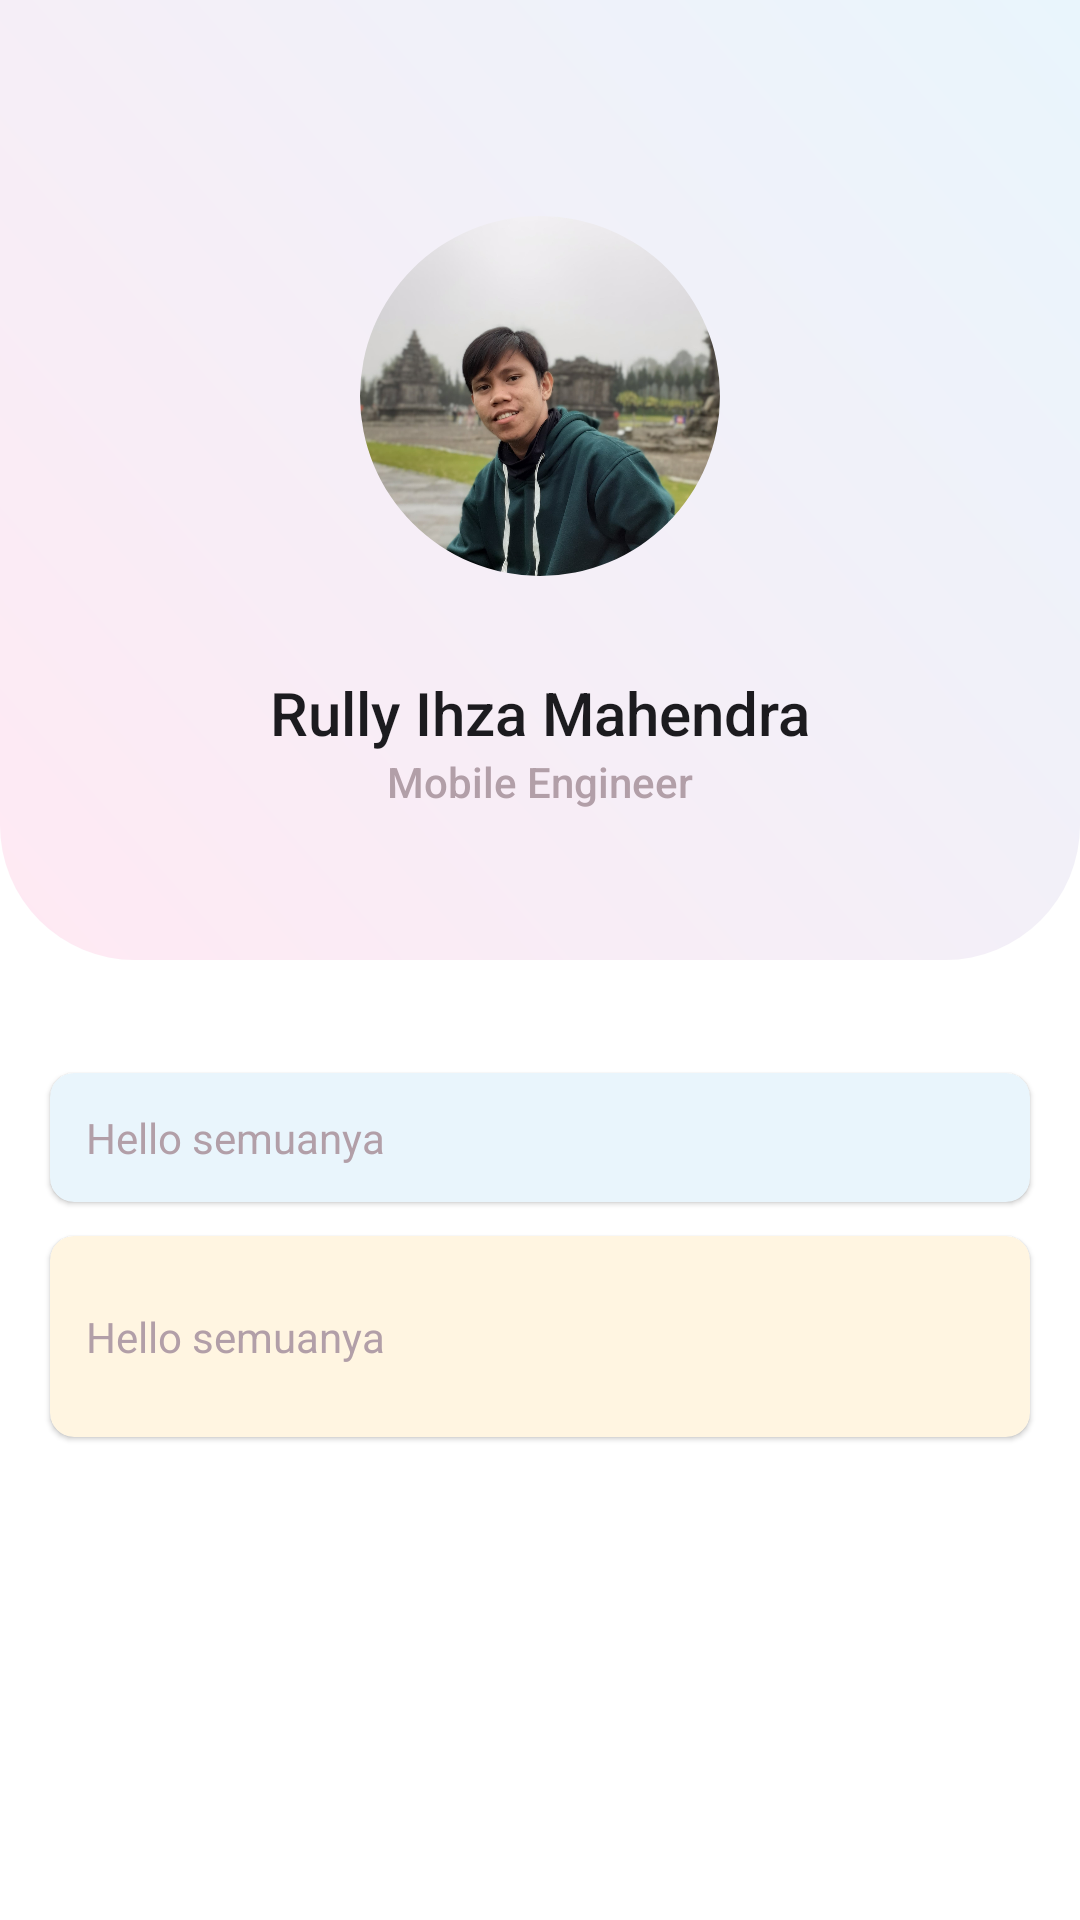

Icon bounding boxes for this 1080x1920 phone screenshot, format (x1, y1, x2, y2):
profile: (360, 260, 720, 576)
